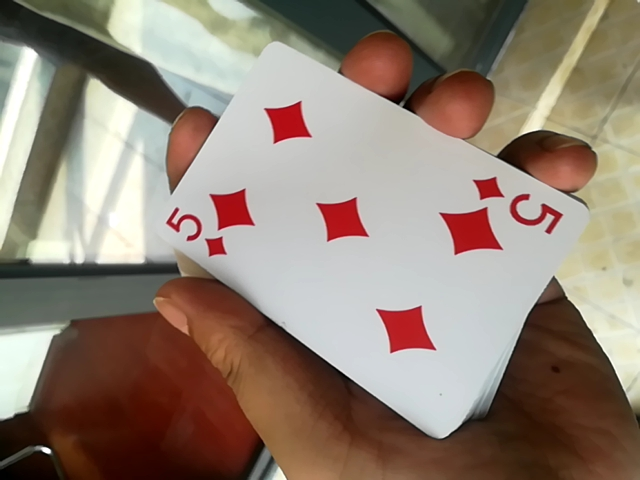fk 5: (118, 37, 579, 454)
